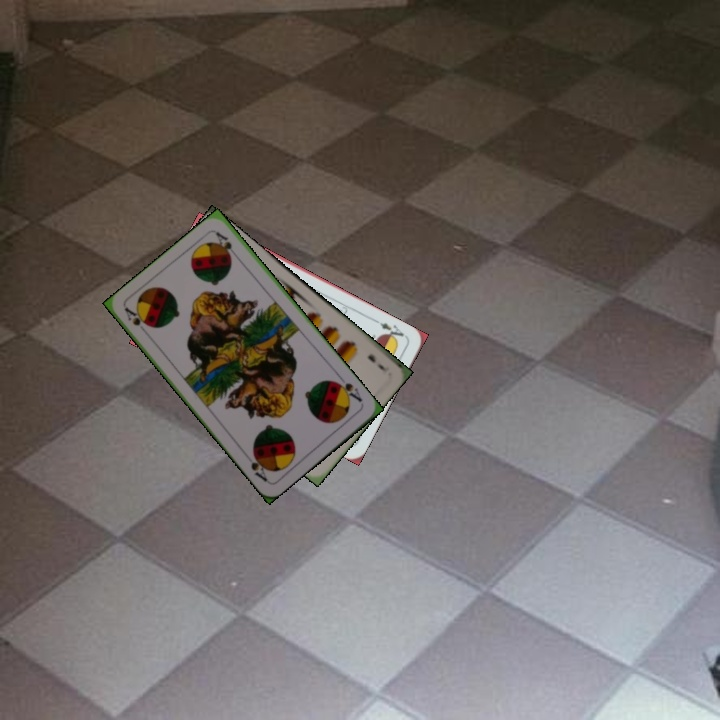E7: (363, 350, 392, 374)
EA: (371, 316, 409, 343)
SA: (330, 372, 365, 405), (121, 304, 152, 338)
